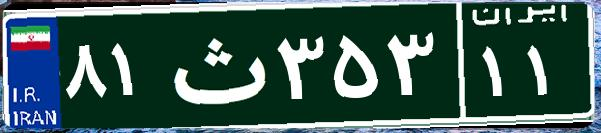1: (475, 38, 525, 113), (110, 28, 158, 105), (525, 38, 570, 115)
3: (385, 28, 445, 110), (273, 28, 330, 110)
5: (330, 28, 385, 110)
8: (57, 26, 110, 107)
ث: (158, 15, 273, 115)
